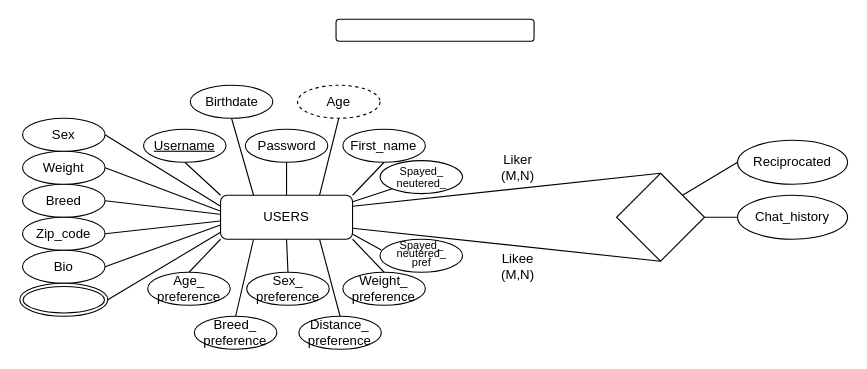
Some shapes in this 867 by 369 pixel diagram are drawn without their labels. Each missing label, with the centre of its shape:
"DoggyDate Database ERD" goes at point (434, 29).
"MATCHES" goes at point (660, 216).
"Photos" goes at point (63, 299).
